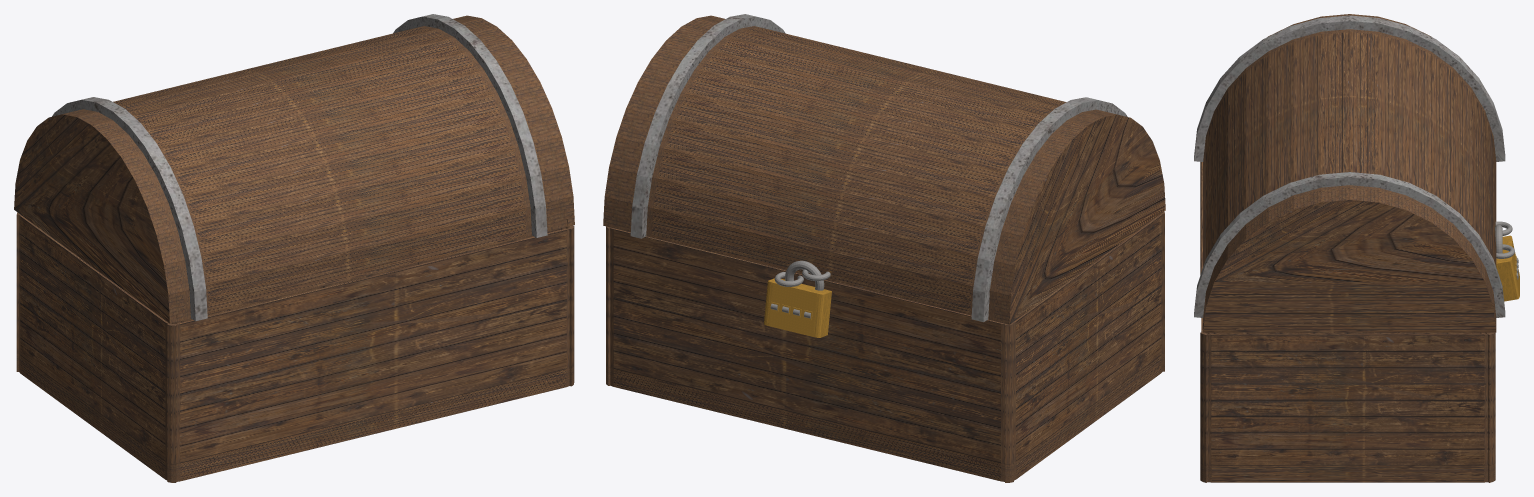
File: Baulechiusocontexturefinal3.obj
3 renders of one model, left to right at view 1: azimuth 30°, elevation 25°; view 2: azimuth 150°, elevation 25°; view 3: azimuth 270°, elevation 25°, orthographic. The views are drawn at different scales.
Visible parts, largest first — view 1: Cylinder, Cube; view 2: Cylinder, Cube, Cube.001; view 3: Cylinder, Cube, Cube.001.
Part boxes in pixels (left/top/right/bottom): Cylinder: left=14, top=14, right=574, bottom=323; Cube: left=16, top=212, right=574, bottom=482; Cylinder: left=603, top=14, right=1165, bottom=324; Cube: left=606, top=211, right=1164, bottom=482; Cube.001: left=764, top=278, right=831, bottom=337; Cylinder: left=1194, top=14, right=1505, bottom=332; Cube: left=1200, top=162, right=1495, bottom=482; Cube.001: left=1496, top=235, right=1519, bottom=301.
Size of the model in its own units: 3.01 by 2.19 by 2.22.
4 materials, 4 textured.
